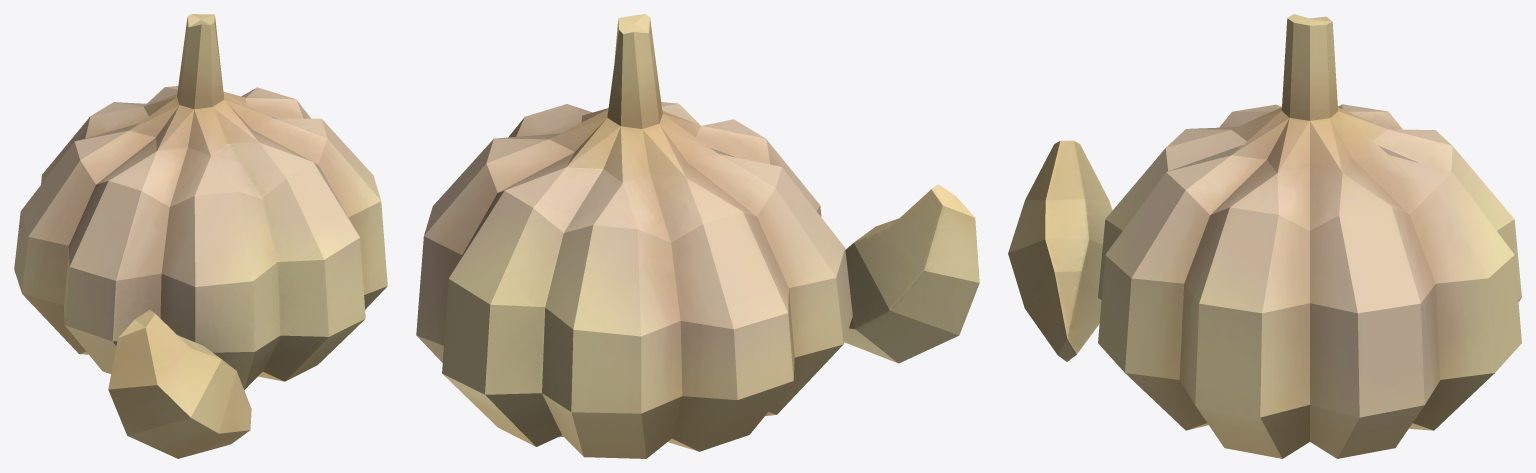
File: garlic.glb
3 renders of one model, left to right at view 1: azimuth 30°, elevation 25°; view 2: azimuth 150°, elevation 25°; view 3: azimuth 270°, elevation 25°, orthographic. The views are drawn at different scales.
Visible parts, largest first — view 1: Garlic_mesh; view 2: Garlic_mesh; view 3: Garlic_mesh.
Part boxes in pixels (x1,y1,x2,y2): Garlic_mesh: [14, 14, 387, 458]; Garlic_mesh: [416, 14, 979, 458]; Garlic_mesh: [1008, 14, 1521, 458].
Bounding box in the file's own units: 5.01 × 4.58 × 5.45.
1 material, 1 textured.
